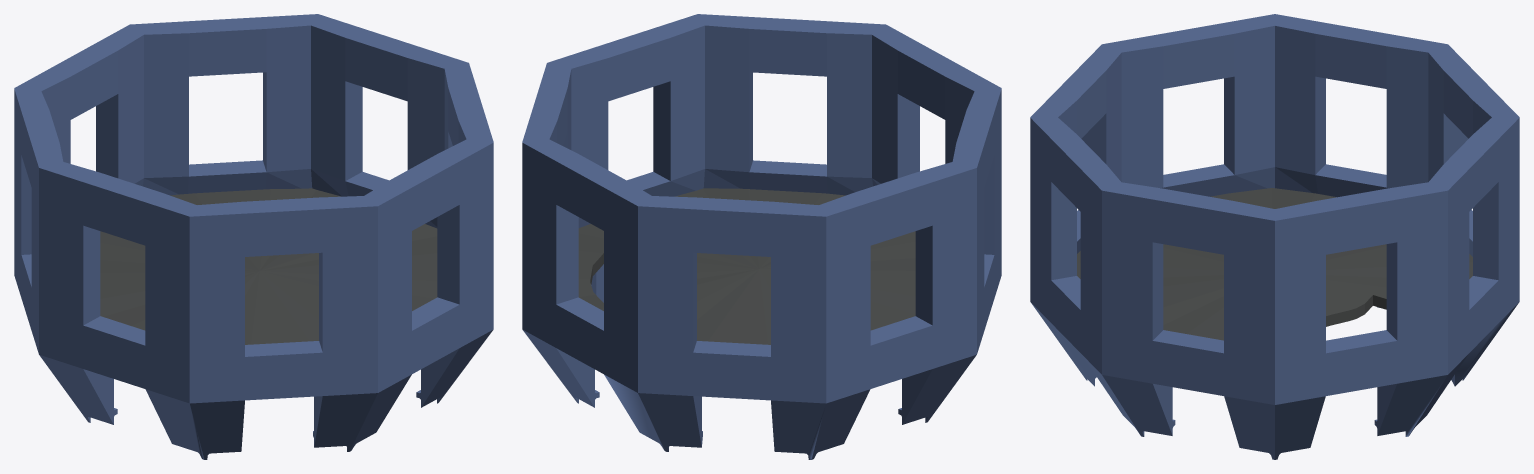
The model's file is scrapyard_castle.glb.
3 views of the same model, side by side, from view 1: azimuth 30°, elevation 25°; view 2: azimuth 150°, elevation 25°; view 3: azimuth 270°, elevation 25° (orthographic).
Visible parts, largest first — view 1: CAP, Cap Floor; view 2: CAP, Cap Floor; view 3: CAP, Cap Floor.
Part boxes in pixels (bbox=[...]): CAP: bbox=[14, 14, 493, 459]; Cap Floor: bbox=[100, 188, 437, 344]; CAP: bbox=[522, 14, 1001, 459]; Cap Floor: bbox=[578, 188, 915, 344]; CAP: bbox=[1030, 14, 1519, 459]; Cap Floor: bbox=[1077, 188, 1472, 340].
Size of what is drawn, in the model's own units: 1.76 by 1.04 by 1.76.
